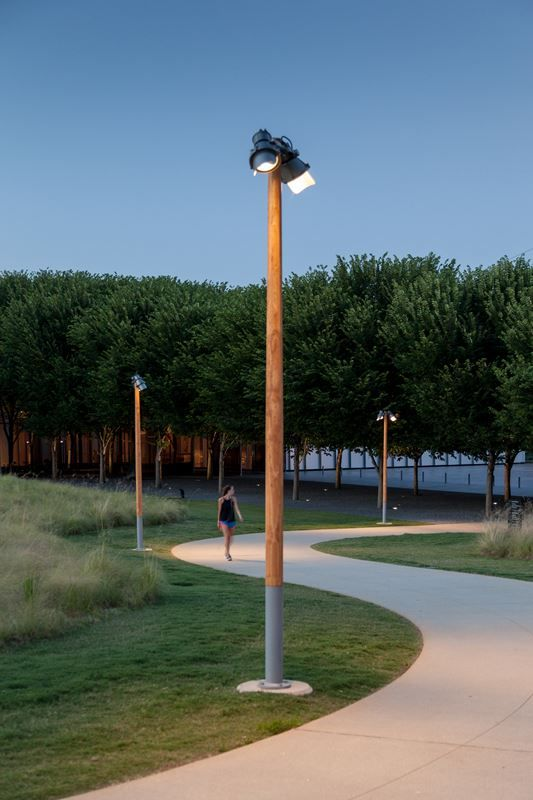light_pole: (244, 133, 312, 706), (124, 375, 154, 548), (375, 412, 397, 524)
